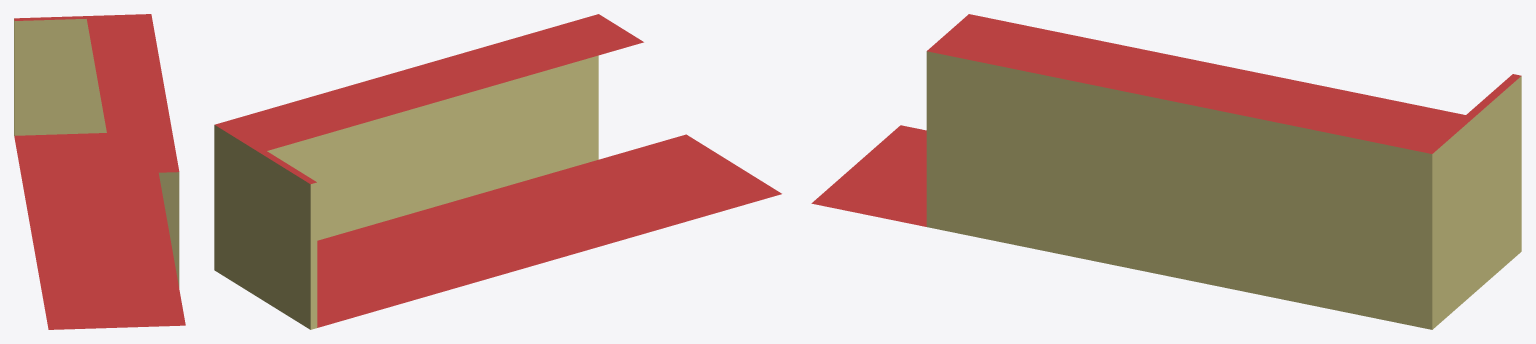
The picture shows the model from 3 angles, left to right: view 1: azimuth 30°, elevation 25°; view 2: azimuth 150°, elevation 25°; view 3: azimuth 270°, elevation 25°; orthographic projection. The views are drawn at different scales.
Bounding box in the file's own units: 12.35 × 18.11 × 4.95.
